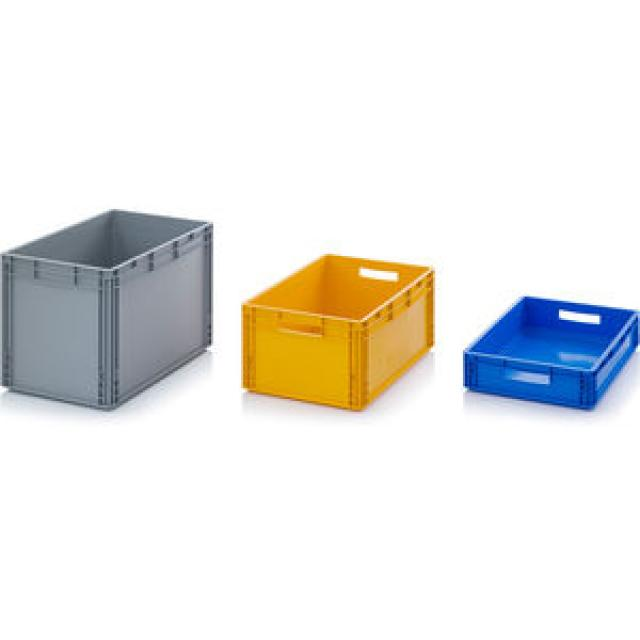basket: (2, 211, 211, 409), (234, 248, 443, 418)
